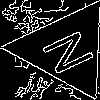N: (40, 24, 100, 77)
